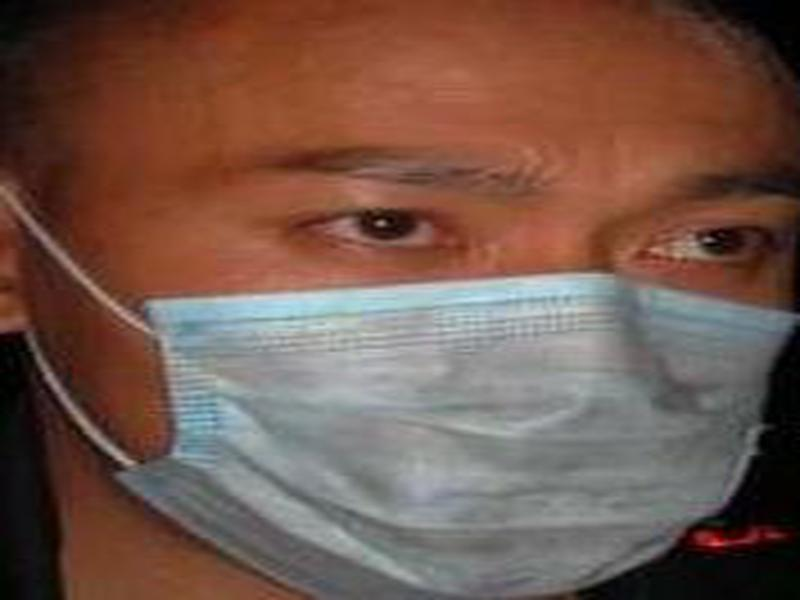with_mask: (1, 2, 797, 600)
